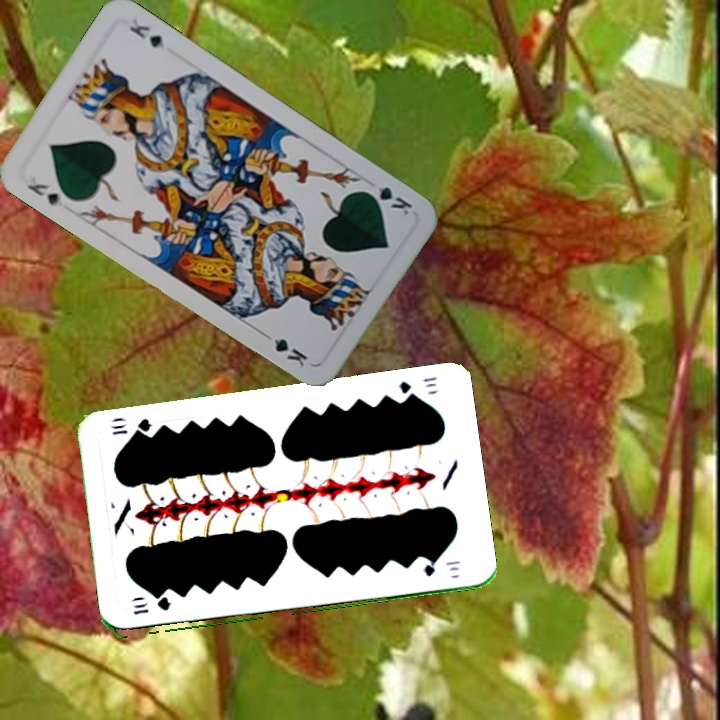G10: (395, 373, 440, 403), (129, 596, 173, 617)
GK: (359, 179, 415, 218), (22, 179, 71, 212)
